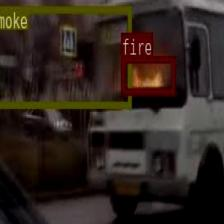fire: (121, 56, 174, 94)
smoke: (0, 5, 131, 107)
